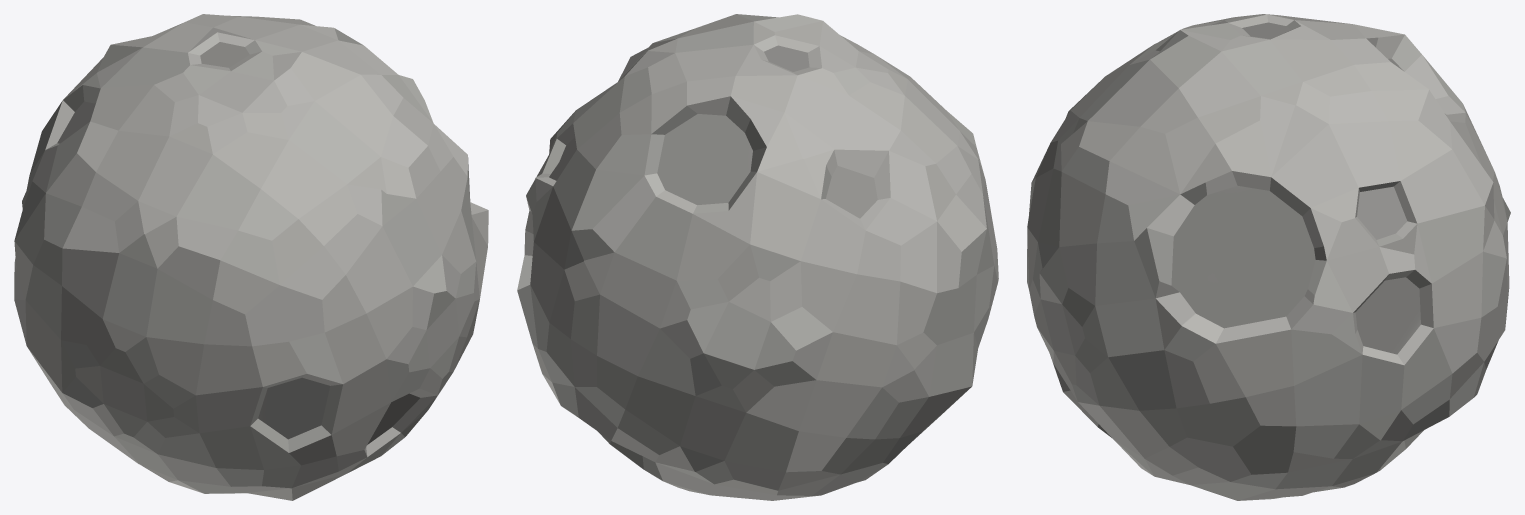
Rendered from Lune.fbx.
The picture shows the model from 3 angles, left to right: view 1: azimuth 30°, elevation 25°; view 2: azimuth 150°, elevation 25°; view 3: azimuth 270°, elevation 25°; orthographic projection. The views are drawn at different scales.
Parts seen in each view (by area): view 1: Moon; view 2: Moon; view 3: Moon.
Part boxes in pixels (x1,y1,x2,y2): Moon: (14, 14, 488, 500); Moon: (517, 14, 998, 500); Moon: (1027, 14, 1510, 500).
Size of the model in its own units: 15662 by 15628 by 15561.
